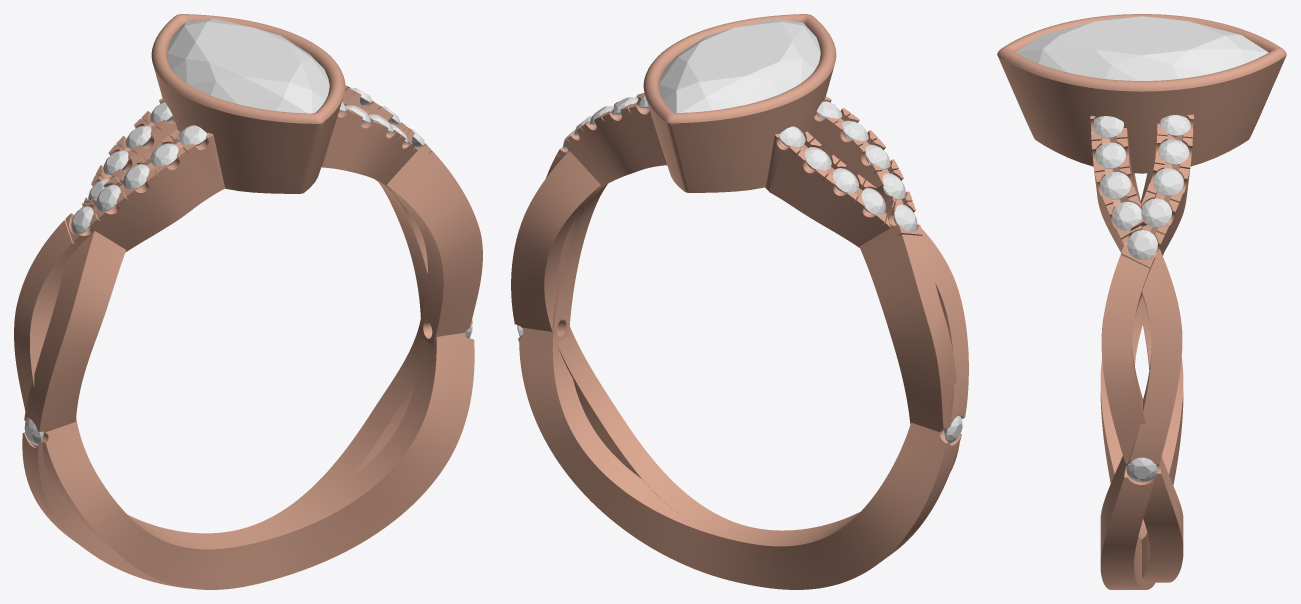
File: diamond-marquise-rosegold-bezelset-twist-sidestones.glb
3 views of the same model, side by side, from view 1: azimuth 30°, elevation 25°; view 2: azimuth 150°, elevation 25°; view 3: azimuth 270°, elevation 25° (orthographic).
Parts seen in each view (by area): view 1: metal.002, stone; view 2: metal.002, stone; view 3: metal.002, stone, Twist diamonds.015, Twist diamonds.016, Twist diamonds.017, Twist diamonds.012, Twist diamonds.011, Twist diamonds.013, Twist diamonds.018, Twist diamonds.010, Twist diamonds.014, Twist diamonds.019.
Part boxes in pixels (x1=…): metal.002: x1=14, y1=14, x2=482, y2=589; stone: x1=167, y1=18, x2=329, y2=113; metal.002: x1=511, y1=14, x2=968, y2=589; stone: x1=659, y1=18, x2=820, y2=112; metal.002: x1=997, y1=14, x2=1286, y2=589; stone: x1=1015, y1=16, x2=1268, y2=80; Twist diamonds.015: x1=1127, y1=230, x2=1157, y2=259; Twist diamonds.016: x1=1141, y1=198, x2=1171, y2=227; Twist diamonds.017: x1=1153, y1=168, x2=1183, y2=195; Twist diamonds.012: x1=1100, y1=172, x2=1130, y2=199; Twist diamonds.011: x1=1112, y1=201, x2=1142, y2=230; Twist diamonds.013: x1=1095, y1=142, x2=1125, y2=168; Twist diamonds.018: x1=1158, y1=139, x2=1189, y2=164; Twist diamonds.010: x1=1126, y1=457, x2=1157, y2=482; Twist diamonds.014: x1=1093, y1=116, x2=1123, y2=138; Twist diamonds.019: x1=1160, y1=115, x2=1190, y2=135.
Size of the model in its own units: 19.97 by 22.73 by 11.31.
